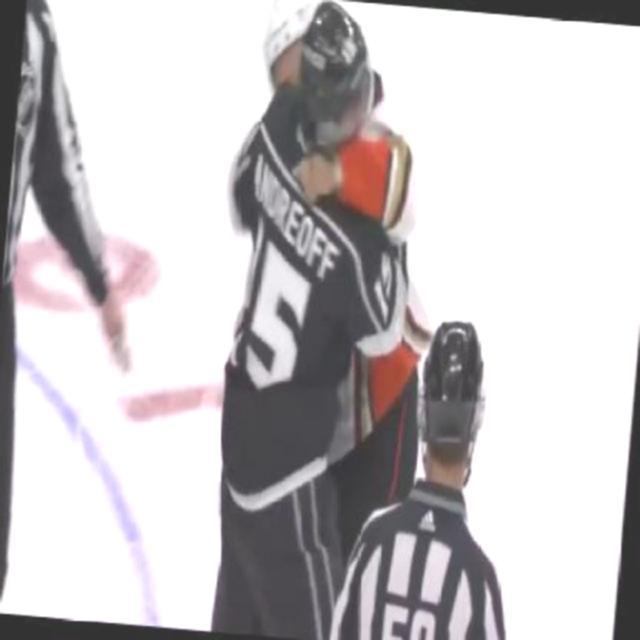fight: (184, 0, 460, 638)
